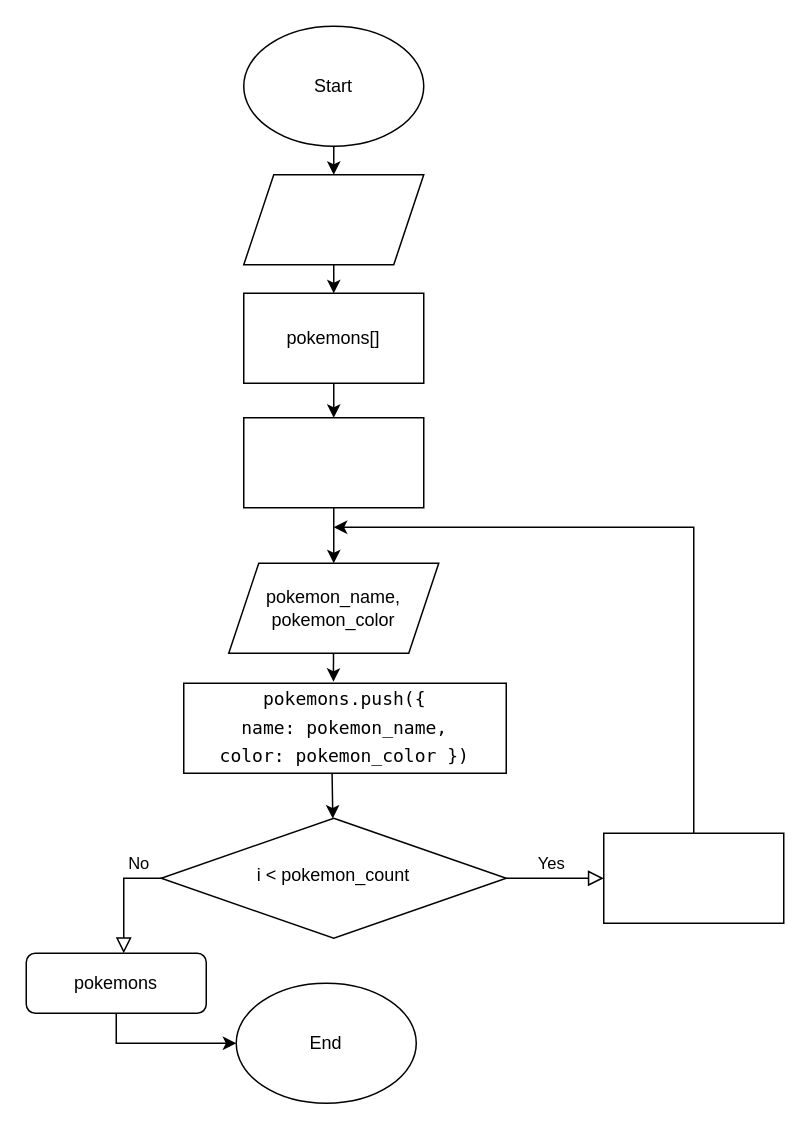
The diagram is 810 pixels wide and 1130 high, and some of its shapes have lost their labels. Each missing label, with the box of its shape:
i = 0: (242, 416, 424, 508)
i++: (602, 832, 784, 923)
pokemon_count: (242, 173, 424, 265)
